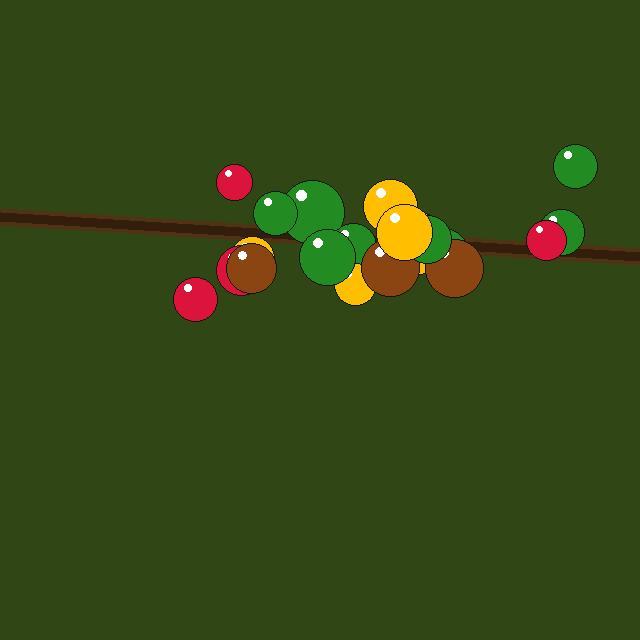Overripe: (425, 239, 483, 297), (361, 238, 419, 296), (226, 243, 276, 293)
Ripe: (216, 245, 266, 295), (173, 277, 217, 321), (526, 220, 566, 260), (216, 164, 252, 200)
Ripening: (386, 212, 448, 274), (376, 204, 432, 260), (363, 179, 417, 233), (230, 236, 274, 280), (334, 263, 376, 305)
Unripe: (280, 180, 344, 244), (299, 229, 355, 285), (418, 228, 468, 278), (403, 215, 451, 263), (330, 223, 376, 269), (538, 209, 584, 255), (553, 144, 597, 188), (253, 191, 297, 235)
